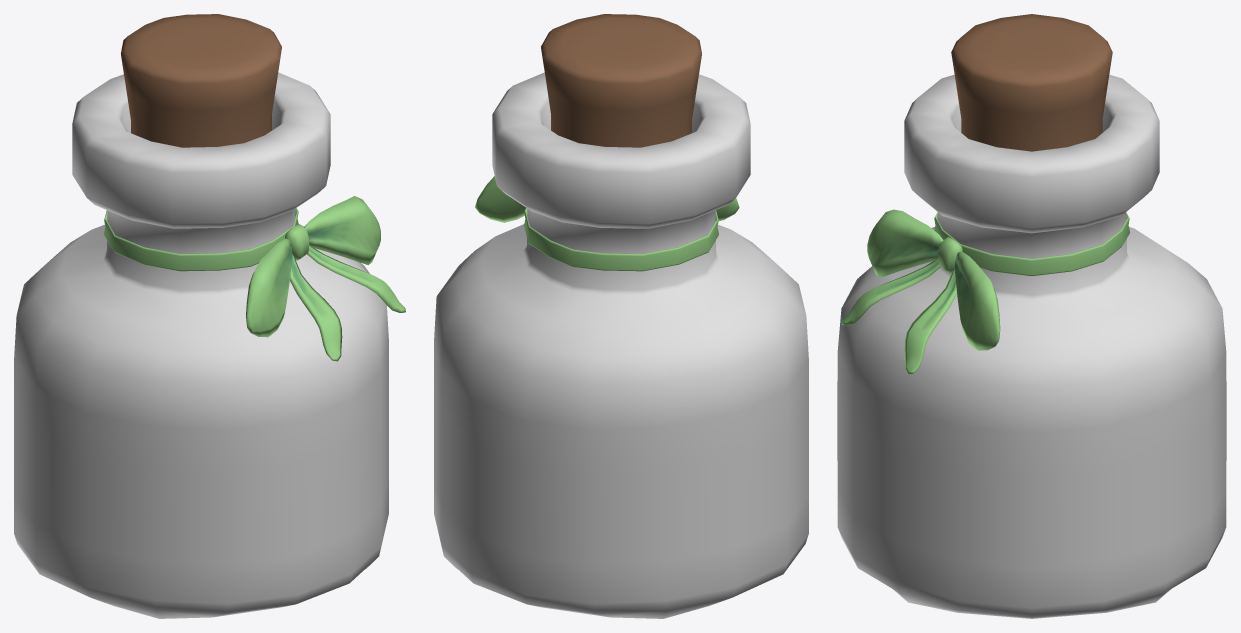
File: tadpole_jar.fbx
3 renders of one model, left to right at view 1: azimuth 30°, elevation 25°; view 2: azimuth 150°, elevation 25°; view 3: azimuth 270°, elevation 25°, orthographic.
Parts seen in each view (by area): view 1: purkki; view 2: purkki; view 3: purkki.
Boxes of the visible parts, x1,y1,x2,y2 form: purkki: (14, 14, 405, 618); purkki: (434, 14, 808, 618); purkki: (837, 14, 1226, 618).
Size of the model in its own units: 0.3234 by 0.4724 by 0.3283.
